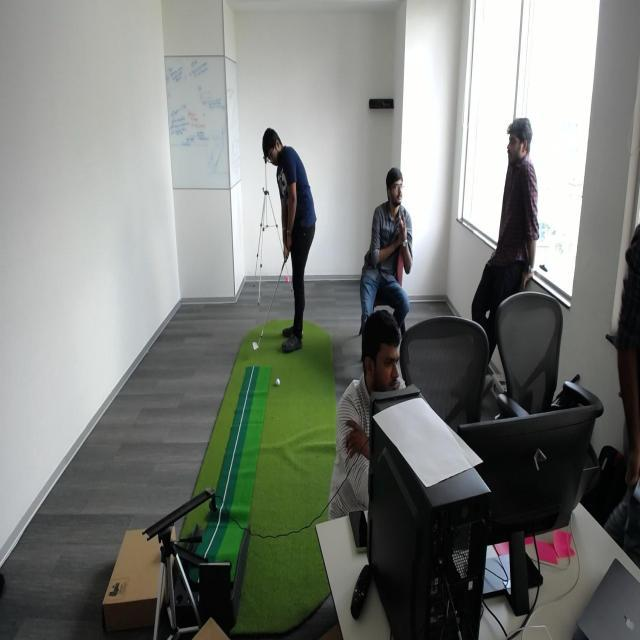ClubHead: (248, 324, 268, 356)
GolfBall: (274, 376, 284, 389)
